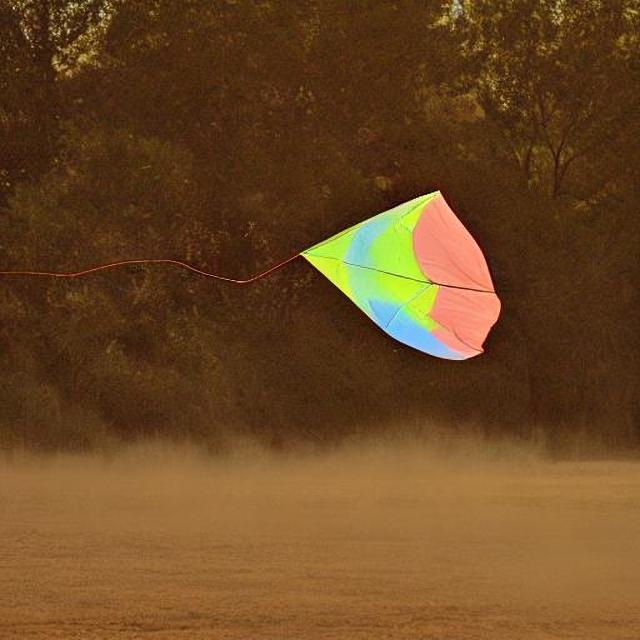floating object: (270, 190, 500, 359)
